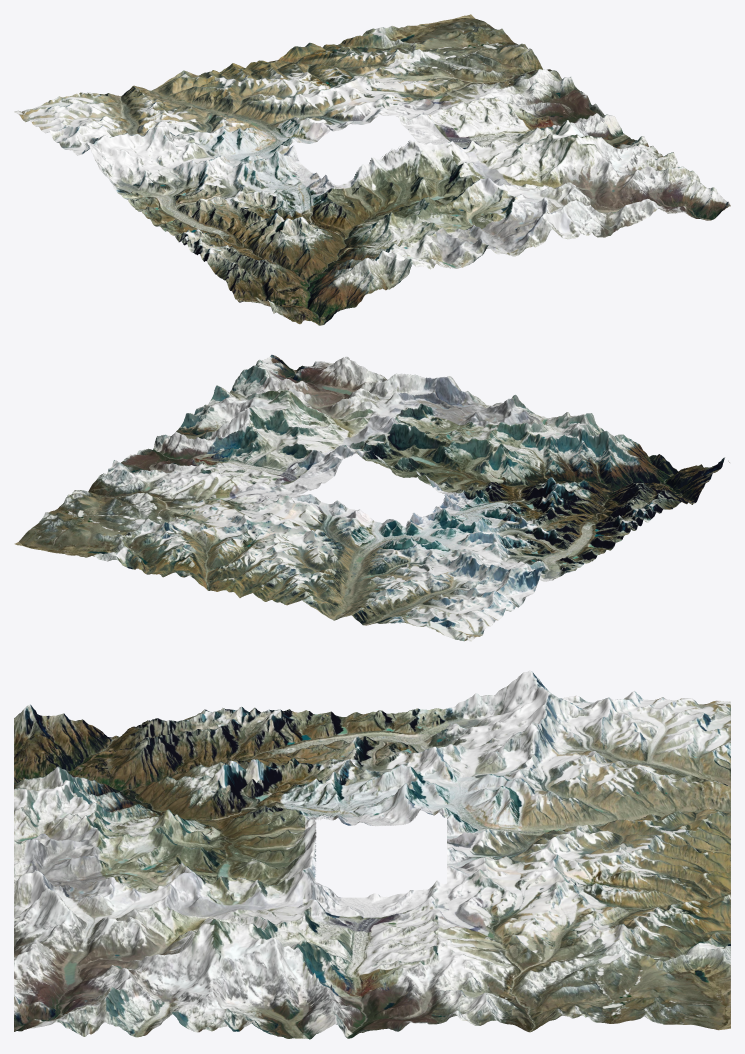
File: ring_mid_opt.glb
3 renders of one model, top to bottom at view 1: azimuth 30°, elevation 25°; view 2: azimuth 150°, elevation 25°; view 3: azimuth 270°, elevation 25°, orthographic. The views are drawn at different scales.
Visible parts, largest first — view 1: world; view 2: world; view 3: world.
Boxes of the visible parts, x1,y1,x2,y2 form: world: [14, 14, 730, 325]; world: [14, 354, 729, 641]; world: [14, 670, 730, 1039].
Bounding box in the file's own units: 45215 × 5536 × 44525.
Materials: 1 (1 with a texture image).
